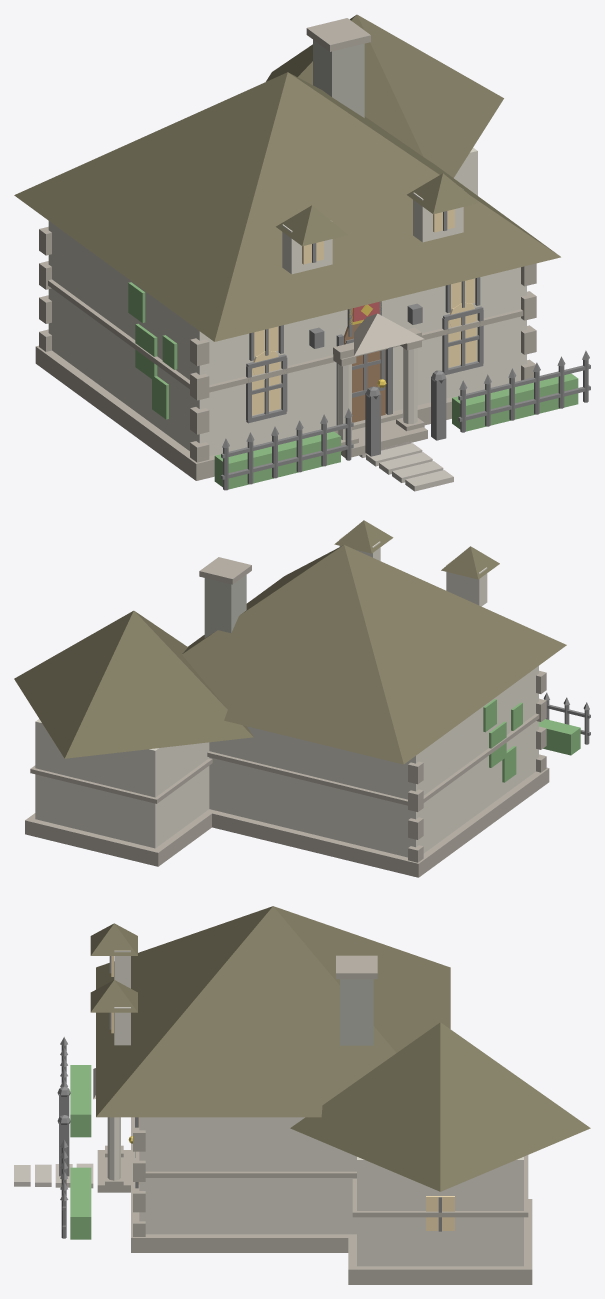
The model's file is large_house.glb.
3 views of the same model, one above another, from view 1: azimuth 30°, elevation 25°; view 2: azimuth 150°, elevation 25°; view 3: azimuth 270°, elevation 25° (orthographic). The views are drawn at different scales.
Parts seen in each view (by area): view 1: main_roof, main_walls, wing_roof, main_base, string_course, hedge_right, chimney, hedge_left, pediment_tri, dormer_roof_1, dormer_roof_0, chimney_cap (+18 smaller); view 2: main_roof, main_walls, wing_roof, wing_walls, main_base, wing_base, string_course, chimney, wing_string, hedge_left, dormer_face_0, dormer_roof_0 (+3 smaller); view 3: main_roof, wing_roof, main_walls, wing_walls, main_base, wing_base, chimney, wing_string, hedge_left, hedge_right, string_course, dormer_roof_1 (+7 smaller).
Part boxes in pixels (x1,y1,x2,y2): main_roof: (14,72,560,341); main_walls: (48,221,526,455); wing_roof: (266,14,503,177); main_base: (35,345,520,480); string_course: (48,279,523,392); hedge_right: (452,373,578,431); chimney: (313,40,364,117); hedge_left: (214,431,340,489); pediment_tri: (354,313,424,356); dormer_roof_1: (407,173,478,214); dormer_roof_0: (276,205,347,246); chimney_cap: (306,18,370,51); main_roof: (182,545,566,764); main_walls: (209,666,538,857); wing_roof: (14,610,253,758); wing_walls: (35,719,209,848); main_base: (206,767,549,877); wing_base: (25,809,214,866); string_course: (207,713,539,805); chimney: (204,575,246,638); wing_string: (30,758,212,803); hedge_left: (539,719,580,755); dormer_face_0: (446,560,487,606); dormer_roof_0: (441,546,499,579); main_roof: (96,906,450,1117); wing_roof: (290,1022,590,1191); main_walls: (139,1117,356,1234); wing_walls: (357,1157,523,1266); main_base: (131,1117,356,1252); wing_base: (348,1199,532,1284); chimney: (340,979,373,1045); wing_string: (352,1155,528,1217); hedge_left: (70,1065,91,1137); hedge_right: (70,1167,91,1239); string_course: (135,1151,356,1177); dormer_roof_1: (90,980,137,1012).
Size of the model in its own units: 0.605 by 0.36 by 0.69.
